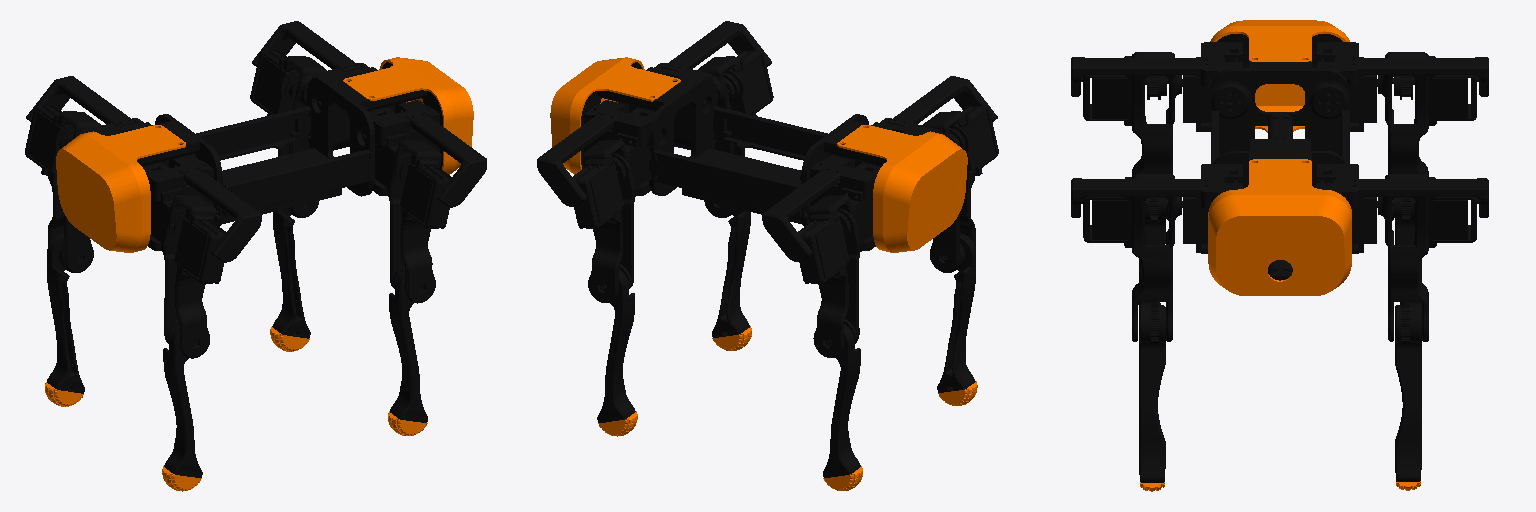
--- Facts derived from the render (not from the file) ---
Views: 3 orthographic renders of the robot side by side, from view 1: azimuth 30°, elevation 25°; view 2: azimuth 150°, elevation 25°; view 3: azimuth 270°, elevation 25°.
Model spot with 25 links and 24 joints (12 revolute, 12 fixed), rooted at base_link, posed every joint at zero.
Visible links, largest first — view 1: back, front_right_upper_leg, back_right_upper_leg, front_right_hip, back_right_hip, front, front_bracket, back_left_upper_leg, chassis_right, front_left_upper_leg, chassis_left, front_left_hip (+7 smaller); view 2: back, front_left_upper_leg, back_left_upper_leg, front_left_hip, back_left_hip, front, front_bracket, back_right_upper_leg, chassis_left, front_right_upper_leg, chassis_right, front_right_hip (+7 smaller); view 3: front, back_bracket, front_right_upper_leg, front_left_upper_leg, back_right_upper_leg, back_left_upper_leg, back_right_hip, back_left_hip, front_right_hip, front_left_hip, back, front_left_lower_leg (+5 smaller).
Link boxes in pixels (x1=…): back: x1=56, y1=125, x2=185, y2=252; front_right_upper_leg: x1=389, y1=140, x2=451, y2=303; back_right_upper_leg: x1=163, y1=195, x2=225, y2=358; front_right_hip: x1=362, y1=100, x2=486, y2=207; back_right_hip: x1=143, y1=155, x2=261, y2=262; front: x1=343, y1=57, x2=473, y2=174; front_bracket: x1=308, y1=62, x2=442, y2=196; back_left_upper_leg: x1=25, y1=106, x2=101, y2=272; chassis_right: x1=222, y1=150, x2=374, y2=216; front_left_upper_leg: x1=250, y1=51, x2=326, y2=217; chassis_left: x1=179, y1=106, x2=310, y2=160; front_left_hip: x1=252, y1=21, x2=394, y2=150; back: x1=837, y1=125, x2=967, y2=252; front_left_upper_leg: x1=573, y1=140, x2=634, y2=302; back_left_upper_leg: x1=798, y1=195, x2=859, y2=357; front_left_hip: x1=537, y1=100, x2=661, y2=206; back_left_hip: x1=762, y1=155, x2=880, y2=261; front: x1=550, y1=57, x2=680, y2=174; front_bracket: x1=581, y1=62, x2=715, y2=195; back_right_upper_leg: x1=922, y1=106, x2=998, y2=272; chassis_left: x1=651, y1=150, x2=801, y2=216; front_right_upper_leg: x1=697, y1=51, x2=773, y2=217; chassis_right: x1=713, y1=106, x2=844, y2=160; front_right_hip: x1=629, y1=21, x2=771, y2=149; front: x1=1208, y1=159, x2=1351, y2=295; back_bracket: x1=1211, y1=34, x2=1349, y2=155; front_right_upper_leg: x1=1081, y1=174, x2=1181, y2=341; front_left_upper_leg: x1=1378, y1=174, x2=1478, y2=341; back_right_upper_leg: x1=1081, y1=52, x2=1181, y2=220; back_left_upper_leg: x1=1378, y1=52, x2=1478, y2=220; back_right_hip: x1=1071, y1=42, x2=1242, y2=131; back_left_hip: x1=1317, y1=42, x2=1488, y2=131; front_right_hip: x1=1071, y1=164, x2=1242, y2=253; front_left_hip: x1=1317, y1=164, x2=1488, y2=253; back: x1=1210, y1=20, x2=1349, y2=132; front_left_lower_leg: x1=1395, y1=303, x2=1421, y2=481.
Bounding box of the posed robot: 0.3666 × 0.3316 × 0.2907 m (x, y, z).
Meshes: 16 distinct files referenced, 23 mesh visuals loaded (15 OBJ); not drawn: 1 (reference not matched to a file when rendering).

The robot description file, URDF, robot "spot":
<?xml version="1.0" encoding="utf-8"?>
<!-- =================================================================================== -->
<!-- |    This document was autogenerated by xacro from spot.urdf.xacro                | -->
<!-- |    EDITING THIS FILE BY HAND IS NOT RECOMMENDED                                 | -->
<!-- =================================================================================== -->
<robot name="spot">
  <material name="orange">
    <color rgba="1.0 0.5 0.0 1"/>
  </material>
  <material name="black">
    <color rgba="0.1 0.1 0.1 1"/>
  </material>
  <material name="grey">
    <color rgba="0.6 0.6 0.6 1"/>
  </material>
  <!-- Left Leg: prefix is front or rear -->
  <!--   <xacro:macro name="LeftLeg" params="prefix reflect">
    <link name="${prefix}_Left_Leg">
        <visual>
            <geometry>
                <box size="${leglen} 0.1 0.2"/>
            </geometry>
            <origin xyz="0 0 -${leglen/2}" rpy="0 ${pi/2} 0"/>
            <material name="white"/>
        </visual>
        <collision>
            <geometry>
                <box size="${leglen} 0.1 0.2"/>
            </geometry>
            <origin xyz="0 0 -${leglen/2}" rpy="0 ${pi/2} 0"/>
        </collision>
        <xacro:default_inertial mass="10"/>
    </link>

    <joint name="base_to_${prefix}_leg" type="fixed">
        <parent link="base_link"/>
        <child link="${prefix}_leg"/>
        <origin xyz="0 ${reflect*(width+.02)} 0.25" />
    </joint>
</xacro:macro> -->
  <!-- <xacro:include filename="$(find mini_ros)/urdf/accessories.urdf.xacro" /> -->
  <!-- Robot description -->
  <!-- STATIC Links -->
  <link name="base_link">
    <inertial>
      <mass value="1"/>
      <!-- Inertial Axes -->
      <inertia ixx="0" ixy="0" ixz="0" iyx="0" iyy="0.0011498" iyz="0" izx="0" izy="0" izz="0"/>
    </inertial>
  </link>
  <link name="base_inertia">
    <visual>
      <origin rpy="0 0 1.57079632679" xyz="-0.16 0.035 -0.045"/>
      <geometry>
        <mesh filename="obj/OpenQuadruped/MAINBODY.obj" scale="0.1 0.1 0.1"/>
      </geometry>
      <material name="orange"/>
    </visual>
    <collision>
      <origin rpy="0 0 1.57079632679" xyz="0 0 0"/>
      <geometry>
        <box size="0.114 0.2 0.1"/>
      </geometry>
    </collision>
    <inertial>
      <mass value="0.6"/>
      <origin rpy="0 0 0" xyz="0 0 0"/>
      <!-- Inertial Axes -->
      <inertia ixx="0.0025" ixy="0" ixz="0" iyx="0" iyy="0.0011498" iyz="0" izx="0" izy="0" izz="0.0026498"/>
    </inertial>
  </link>
  <gazebo reference="base_inertia">
    <material>Gazebo/Orange</material>
  </gazebo>
  <!-- m to mm -->
  <link name="battery">
    <visual>
      <origin rpy="0 0 1.57079632679" xyz="-0.15 0.035 -0.022"/>
      <geometry>
        <mesh filename="obj/OpenQuadruped/Battery.obj" scale="0.1 0.1 0.1"/>
      </geometry>
      <material name="black"/>
    </visual>
    <collision>
      <origin rpy="0 0 1.57079632679" xyz="0 0 0"/>
      <geometry>
        <box size="0.048 0.145 0.026"/>
      </geometry>
    </collision>
    <inertial>
      <mass value="0.4"/>
      <origin rpy="0 0 0" xyz="0 0 0"/>
      <!-- Inertial Axes -->
      <inertia ixx="0.000723366666667" ixy="0" ixz="0" iyx="0" iyy="9.93333333333e-05" iyz="0" izx="0" izy="0" izz="0.000777633333333"/>
    </inertial>
  </link>
  <gazebo reference="battery">
    <material>Gazebo/Black</material>
  </gazebo>
  <!-- m to mm -->
  <link name="chassis_left">
    <visual>
      <origin rpy="0 1.57079632679 -1.57079632679" xyz="0.016 0.003 0"/>
      <geometry>
        <mesh filename="obj/OpenQuadruped/Chassis_Left_Side.obj" scale="0.1 0.1 0.1"/>
      </geometry>
      <material name="black"/>
    </visual>
    <collision>
      <origin rpy="0 1.57079632679 -1.57079632679" xyz="0 0 0"/>
      <geometry>
        <box size="0.06 0.15 0.006"/>
      </geometry>
    </collision>
    <inertial>
      <mass value="0.01"/>
      <origin rpy="0 0 0" xyz="0 0 0"/>
      <!-- Inertial Axes -->
      <inertia ixx="1.878e-05" ixy="0" ixz="0" iyx="0" iyy="3.03e-06" iyz="0" izx="0" izy="0" izz="2.175e-05"/>
    </inertial>
  </link>
  <gazebo reference="chassis_left">
    <material>Gazebo/Black</material>
  </gazebo>
  <!-- m to mm -->
  <link name="chassis_right">
    <visual>
      <origin rpy="0 1.57079632679 1.57079632679" xyz="-0.016 -0.003 0"/>
      <geometry>
        <mesh filename="obj/OpenQuadruped/Chassis_Right_Side.obj" scale="0.1 0.1 0.1"/>
      </geometry>
      <material name="black"/>
    </visual>
    <collision>
      <origin rpy="0 1.57079632679 1.57079632679" xyz="0 0 0"/>
      <geometry>
        <box size="0.06 0.15 0.006"/>
      </geometry>
    </collision>
    <inertial>
      <mass value="0.01"/>
      <origin rpy="0 0 0" xyz="0 0 0"/>
      <!-- Inertial Axes -->
      <inertia ixx="1.878e-05" ixy="0" ixz="0" iyx="0" iyy="3.03e-06" iyz="0" izx="0" izy="0" izz="2.175e-05"/>
    </inertial>
  </link>
  <gazebo reference="chassis_right">
    <material>Gazebo/Black</material>
  </gazebo>
  <!-- m to mm -->
  <link name="front">
    <visual>
      <origin rpy="0 0 1.57079632679" xyz="-0.16 0.035 -0.045"/>
      <geometry>
        <mesh filename="obj/OpenQuadruped/Front.obj" scale="0.1 0.1 0.1"/>
      </geometry>
      <material name="orange"/>
    </visual>
    <collision>
      <origin rpy="0 0 1.57079632679" xyz="0.16 0 0.006"/>
      <geometry>
        <box size="0.114 0.045 0.085"/>
      </geometry>
    </collision>
    <inertial>
      <mass value="0.1"/>
      <origin rpy="0 0 0" xyz="0 0 0"/>
      <!-- Inertial Axes -->
      <inertia ixx="7.70833333333e-05" ixy="0" ixz="0" iyx="0" iyy="0.000168508333333" iyz="0" izx="0" izy="0" izz="0.000125175"/>
    </inertial>
  </link>
  <gazebo reference="front">
    <material>Gazebo/Orange</material>
  </gazebo>
  <!-- m to mm -->
  <link name="back">
    <visual>
      <origin rpy="0 0 1.57079632679" xyz="-0.16 0.035 -0.045"/>
      <geometry>
        <mesh filename="obj/OpenQuadruped/Back.obj" scale="0.1 0.1 0.1"/>
      </geometry>
      <material name="orange"/>
    </visual>
    <collision>
      <origin rpy="0 0 1.57079632679" xyz="-0.16 0 0.006"/>
      <geometry>
        <box size="0.114 0.075 0.085"/>
      </geometry>
    </collision>
    <inertial>
      <mass value="0.1"/>
      <origin rpy="0 0 0" xyz="0 0 0"/>
      <!-- Inertial Axes -->
      <inertia ixx="0.000107083333333" ixy="0" ixz="0" iyx="0" iyy="0.000168508333333" iyz="0" izx="0" izy="0" izz="0.000155175"/>
    </inertial>
  </link>
  <gazebo reference="back">
    <material>Gazebo/Orange</material>
  </gazebo>
  <!-- m to mm -->
  <link name="front_bracket">
    <visual>
      <origin rpy="0 0 1.57079632679" xyz="-0.16 0.035 -0.045"/>
      <geometry>
        <mesh filename="obj/OpenQuadruped/Front_Bracket.obj" scale="0.1 0.1 0.1"/>
      </geometry>
      <material name="black"/>
    </visual>
    <collision>
      <origin rpy="0 0 1.57079632679" xyz="0.1 0 0"/>
      <geometry>
        <box size="0.025 0.075 0.085"/>
      </geometry>
    </collision>
    <inertial>
      <mass value="0.1"/>
      <origin rpy="0 0 0" xyz="0 0 0"/>
      <!-- Inertial Axes -->
      <inertia ixx="0.000107083333333" ixy="0" ixz="0" iyx="0" iyy="6.54166666667e-05" iyz="0" izx="0" izy="0" izz="5.20833333333e-05"/>
    </inertial>
  </link>
  <gazebo reference="front_bracket">
    <material>Gazebo/Black</material>
  </gazebo>
  <!-- m to mm -->
  <link name="back_bracket">
    <visual>
      <origin rpy="0 0 1.57079632679" xyz="-0.16 0.035 -0.045"/>
      <geometry>
        <mesh filename="obj/OpenQuadruped/Back_Bracket.obj" scale="0.1 0.1 0.1"/>
      </geometry>
      <material name="black"/>
    </visual>
    <collision>
      <origin rpy="0 0 1.57079632679" xyz="-0.1 0 0"/>
      <geometry>
        <box size="0.025 0.075 0.085"/>
      </geometry>
    </collision>
    <inertial>
      <mass value="0.1"/>
      <origin rpy="0 0 0" xyz="0 0 0"/>
      <!-- Inertial Axes -->
      <inertia ixx="0.000107083333333" ixy="0" ixz="0" iyx="0" iyy="6.54166666667e-05" iyz="0" izx="0" izy="0" izz="5.20833333333e-05"/>
    </inertial>
  </link>
  <gazebo reference="back_bracket">
    <material>Gazebo/Black</material>
  </gazebo>
  <!-- m to mm -->
  <link name="front_left_hip">
    <visual>
      <origin rpy="0 0 1.57079632679" xyz="-0.25 -0.0044 -0.067"/>
      <geometry>
        <mesh filename="obj/OpenQuadruped/LEFT_HIP.obj" scale="0.1 0.1 0.1"/>
      </geometry>
      <material name="black"/>
    </visual>
    <collision>
      <origin rpy="0 0 1.57079632679" xyz="0.015 0.01 -0.01"/>
      <geometry>
        <box size="0.05 0.065 0.065"/>
      </geometry>
    </collision>
    <inertial>
      <mass value="0.2"/>
      <origin rpy="0 0 0" xyz="0 0.075 0"/>
      <!-- Inertial Axes -->
      <inertia ixx="0.000140833333333" ixy="0" ixz="0" iyx="0" iyy="0.000112083333333" iyz="0" izx="0" izy="0" izz="0.000112083333333"/>
    </inertial>
  </link>
  <gazebo reference="front_left_hip">
    <material>Gazebo/Black</material>
  </gazebo>
  <joint name="motor_front_left_hip" type="revolute">
    <axis xyz="1 0 0"/>
    <origin rpy="0 0 0" xyz="0.0915 0.0394 0.022"/>
    <parent link="front_bracket"/>
    <child link="front_left_hip"/>
    <limit effort="4.0" lower="-1.04" upper="1.04" velocity="4.0"/>
    <joint_properties damping="0.0" friction="0.0"/>
  </joint>
  <link name="front_left_upper_leg">
    <visual>
      <origin rpy="0 0 1.57079632679" xyz="-0.252 -0.05 -0.055"/>
      <geometry>
        <mesh filename="obj/OpenQuadruped/LEFT_UPPER_LEG.obj" scale="0.1 0.1 0.1"/>
      </geometry>
      <material name="black"/>
    </visual>
    <collision>
      <origin rpy="0 0 1.57079632679" xyz="0 0.02 -0.05"/>
      <geometry>
        <box size="0.035 0.035 0.11"/>
      </geometry>
    </collision>
    <inertial>
      <mass value="0.13"/>
      <origin rpy="0 0 0" xyz="-0.005 0.0175 -0.055"/>
      <!-- Inertial Axes -->
      <inertia ixx="0.000144354166667" ixy="0" ixz="0" iyx="0" iyy="0.000144354166667" iyz="0" izx="0" izy="0" izz="2.65416666667e-05"/>
    </inertial>
  </link>
  <gazebo reference="front_left_upper_leg">
    <material>Gazebo/Black</material>
  </gazebo>
  <joint name="motor_front_left_upper_leg" type="revolute">
    <axis xyz="0 1 0"/>
    <origin rpy="0 0 0" xyz="0.0015 0.045 -0.0087"/>
    <parent link="front_left_hip"/>
    <child link="front_left_upper_leg"/>
    <limit effort="4.0" lower="-1.57079632679" upper="2.59" velocity="4.0"/>
    <joint_properties damping="0.0" friction="0.0"/>
  </joint>
  <link name="front_left_lower_leg">
    <visual>
      <origin rpy="0 0 1.57079632679" xyz="-0.247 -0.068 0.0535"/>
      <geometry>
        <mesh filename="obj/OpenQuadruped/LEFT_LOWER_LEG.obj" scale="0.1 0.1 0.1"/>
      </geometry>
      <material name="black"/>
    </visual>
    <collision>
      <origin rpy="0 0 1.57079632679" xyz="0 0 -0.06"/>
      <geometry>
        <box size="0.035 0.035 0.12"/>
      </geometry>
    </collision>
    <inertial>
      <mass value="0.05"/>
      <origin rpy="0 0 0" xyz="-0.01 0 -0.06"/>
      <!-- Inertial Axes -->
      <inertia ixx="6.51041666667e-05" ixy="0" ixz="0" iyx="0" iyy="6.51041666667e-05" iyz="0" izx="0" izy="0" izz="1.02083333333e-05"/>
    </inertial>
  </link>
  <gazebo reference="front_left_lower_leg">
    <material>Gazebo/Black</material>
  </gazebo>
  <joint name="motor_front_left_lower_leg" type="revolute">
    <axis xyz="0 1 0"/>
    <origin rpy="0 0 0" xyz="-0.005 0.018 -0.109"/>
    <parent link="front_left_upper_leg"/>
    <child link="front_left_lower_leg"/>
    <limit effort="4.0" lower="-2.9" upper="1.57079632679" velocity="4.0"/>
    <joint_properties damping="0.0" friction="0.0"/>
  </joint>
  <link name="front_left_foot">
    <visual>
      <origin rpy="0 0 1.57079632679" xyz="-0.247 -0.068 0.18"/>
      <geometry>
        <mesh filename="obj/OpenQuadruped/LEFT_FOOT.obj" scale="0.1 0.1 0.1"/>
      </geometry>
      <material name="orange"/>
    </visual>
    <collision>
      <!-- origin rpy="0 0 1.57079632679" xyz="-0.247 -0.068 0.18"/-->
      <origin rpy = "1.57079632679 0 0" xyz = "-0.005 0 0"/>
      <geometry>
        <!-- mesh filename="obj/OpenQuadruped/LEFT_FOOT.obj" scale="0.1 0.1 0.1"/ -->
        <!-- sphere radius="0.025"/-->
        <cylinder radius="0.02" length="0.02"/>
      </geometry>
      <contact_coefficients mu="10.1"/>
    </collision>
    <inertial>
      <mass value="0.005"/>
      <origin rpy="0 0 0" xyz="0 0 0"/>
      <!-- Inertial Axes -->
      <inertia ixx="3.52083333333e-06" ixy="0" ixz="0" iyx="0" iyy="2.80208333333e-06" iyz="0" izx="0" izy="0" izz="2.80208333333e-06"/>
    </inertial>
  </link>
  <gazebo reference="front_left_foot">
    <kp>1000000.0</kp>
    <kd>1.0</kd>
    <mu1>0.8</mu1>
    <mu2>0.8</mu2>
    <maxVel>0.0</maxVel>
    <minDepth>0.001</minDepth>
    <material>Gazebo/Orange</material>
  </gazebo>
  <joint name="front_left_leg_foot" type="fixed">
    <origin rpy="0 0 0" xyz="0 0 -0.1265"/>
    <parent link="front_left_lower_leg"/>
    <child link="front_left_foot"/>
  </joint>
  <link name="back_left_hip">
    <visual>
      <origin rpy="0 0 1.57079632679" xyz="-0.25 -0.0044 -0.067"/>
      <geometry>
        <mesh filename="obj/OpenQuadruped/LEFT_HIP.obj" scale="0.1 0.1 0.1"/>
      </geometry>
      <material name="black"/>
    </visual>
    <collision>
      <origin rpy="0 0 1.57079632679" xyz="0.015 0.01 -0.01"/>
      <geometry>
        <box size="0.05 0.065 0.065"/>
      </geometry>
    </collision>
    <inertial>
      <mass value="0.2"/>
      <origin rpy="0 0 0" xyz="0 0.075 0"/>
      <!-- Inertial Axes -->
      <inertia ixx="0.000140833333333" ixy="0" ixz="0" iyx="0" iyy="0.000112083333333" iyz="0" izx="0" izy="0" izz="0.000112083333333"/>
    </inertial>
  </link>
  <gazebo reference="back_left_hip">
    <material>Gazebo/Black</material>
  </gazebo>
  <joint name="motor_back_left_hip" type="revolute">
    <axis xyz="1 0 0"/>
    <origin rpy="0 0 0" xyz="-0.1365 0.0394 0.022"/>
    <parent link="back_bracket"/>
    <child link="back_left_hip"/>
    <limit effort="4.0" lower="-1.04" upper="1.04" velocity="4.0"/>
    <joint_properties damping="0.0" friction="0.0"/>
  </joint>
  <link name="back_left_upper_leg">
    <visual>
      <origin rpy="0 0 1.57079632679" xyz="-0.252 -0.05 -0.055"/>
      <geometry>
        <mesh filename="obj/OpenQuadruped/LEFT_UPPER_LEG.obj" scale="0.1 0.1 0.1"/>
      </geometry>
      <material name="black"/>
    </visual>
    <collision>
      <origin rpy="0 0 1.57079632679" xyz="0 0.02 -0.05"/>
      <geometry>
        <box size="0.035 0.035 0.11"/>
      </geometry>
    </collision>
    <inertial>
      <mass value="0.13"/>
      <origin rpy="0 0 0" xyz="-0.005 0.0175 -0.055"/>
      <!-- Inertial Axes -->
      <inertia ixx="0.000144354166667" ixy="0" ixz="0" iyx="0" iyy="0.000144354166667" iyz="0" izx="0" izy="0" izz="2.65416666667e-05"/>
    </inertial>
  </link>
  <gazebo reference="back_left_upper_leg">
    <material>Gazebo/Black</material>
  </gazebo>
  <joint name="motor_back_left_upper_leg" type="revolute">
    <axis xyz="0 1 0"/>
    <origin rpy="0 0 0" xyz="0.0015 0.045 -0.0087"/>
    <parent link="back_left_hip"/>
    <child link="back_left_upper_leg"/>
    <limit effort="4.0" lower="-1.57079632679" upper="2.59" velocity="4.0"/>
    <joint_properties damping="0.0" friction="0.0"/>
  </joint>
  <link name="back_left_lower_leg">
    <visual>
      <origin rpy="0 0 1.57079632679" xyz="-0.247 -0.068 0.0535"/>
      <geometry>
        <mesh filename="obj/OpenQuadruped/LEFT_LOWER_LEG.obj" scale="0.1 0.1 0.1"/>
      </geometry>
      <material name="black"/>
    </visual>
    <collision>
      <origin rpy="0 0 1.57079632679" xyz="0 0 -0.06"/>
      <geometry>
        <box size="0.035 0.035 0.12"/>
      </geometry>
    </collision>
    <inertial>
      <mass value="0.05"/>
      <origin rpy="0 0 0" xyz="-0.01 0 -0.06"/>
      <!-- Inertial Axes -->
      <inertia ixx="6.51041666667e-05" ixy="0" ixz="0" iyx="0" iyy="6.51041666667e-05" iyz="0" izx="0" izy="0" izz="1.02083333333e-05"/>
    </inertial>
  </link>
  <gazebo reference="back_left_lower_leg">
    <material>Gazebo/Black</material>
  </gazebo>
  <joint name="motor_back_left_lower_leg" type="revolute">
    <axis xyz="0 1 0"/>
    <origin rpy="0 0 0" xyz="-0.005 0.018 -0.109"/>
    <parent link="back_left_upper_leg"/>
    <child link="back_left_lower_leg"/>
    <limit effort="4.0" lower="-2.9" upper="1.57079632679" velocity="4.0"/>
    <joint_properties damping="0.0" friction="0.0"/>
  </joint>
  <link name="back_left_foot">
    <visual>
      <origin rpy="0 0 1.57079632679" xyz="-0.247 -0.068 0.18"/>
      <geometry>
        <mesh filename="obj/OpenQuadruped/LEFT_FOOT.obj" scale="0.1 0.1 0.1"/>
      </geometry>
      <material name="orange"/>
    </visual>
    <collision>
      <!--origin rpy="0 0 1.57079632679" xyz="-0.247 -0.068 0.18"/-->
      <origin rpy = "1.57079632679 0 0" xyz = "-0.005 0 0"/>
      <geometry>
        <!--mesh filename="obj/OpenQuadruped/LEFT_FOOT.obj" scale="0.1 0.1 0.1"/-->
        <!-- sphere radius="0.025"/-->
        <cylinder radius="0.02" length="0.02"/>
      </geometry>
      <contact_coefficients mu="10.1"/>
    </collision>
    <inertial>
      <mass value="0.005"/>
      <origin rpy="0 0 0" xyz="0 0 0"/>
      <!-- Inertial Axes -->
      <inertia ixx="3.52083333333e-06" ixy="0" ixz="0" iyx="0" iyy="2.80208333333e-06" iyz="0" izx="0" izy="0" izz="2.80208333333e-06"/>
    </inertial>
  </link>
  <gazebo reference="back_left_foot">
    <kp>1000000.0</kp>
    <kd>1.0</kd>
    <mu1>0.8</mu1>
    <mu2>0.8</mu2>
    <maxVel>0.0</maxVel>
    <minDepth>0.001</minDepth>
    <material>Gazebo/Orange</material>
  </gazebo>
  <joint name="back_left_leg_foot" type="fixed">
    <origin rpy="0 0 0" xyz="0 0 -0.1265"/>
    <parent link="back_left_lower_leg"/>
    <child link="back_left_foot"/>
  </joint>
  <link name="front_right_hip">
    <visual>
      <origin rpy="0 0 1.57079632679" xyz="-0.25 0.074 -0.067"/>
      <geometry>
        <mesh filename="obj/OpenQuadruped/RIGHT_HIP.obj" scale="0.1 0.1 0.1"/>
      </geometry>
      <material name="black"/>
    </visual>
    <collision>
      <origin rpy="0 0 1.57079632679" xyz="0.015 -0.01 -0.01"/>
      <geometry>
        <box size="0.05 0.065 0.065"/>
      </geometry>
    </collision>
    <inertial>
      <mass value="0.2"/>
      <origin rpy="0 0 0" xyz="0 -0.075 0"/>
      <!-- Inertial Axes -->
      <inertia ixx="0.000140833333333" ixy="0" ixz="0" iyx="0" iyy="0.000112083333333" iyz="0" izx="0" izy="0" izz="0.000112083333333"/>
    </inertial>
  </link>
  <gazebo reference="front_right_hip">
    <material>Gazebo/Black</material>
  </gazebo>
  <joint name="motor_front_right_hip" type="revolute">
    <axis xyz="1 0 0"/>
    <origin rpy="0 0 0" xyz="0.0915 -0.0394 0.022"/>
    <parent link="front_bracket"/>
    <child link="front_right_hip"/>
    <limit effort="4.0" lower="-1.04" upper="1.04" velocity="4.0"/>
    <joint_properties damping="0.0" friction="0.0"/>
  </joint>
  <link name="front_right_upper_leg">
    <visual>
      <origin rpy="0 0 1.57079632679" xyz="-0.252 0.12 -0.055"/>
      <geometry>
        <mesh filename="obj/OpenQuadruped/RIGHT_UPPER_LEG.obj" scale="0.1 0.1 0.1"/>
      </geometry>
      <material name="black"/>
    </visual>
    <collision>
      <origin rpy="0 0 1.57079632679" xyz="0 -0.02 -0.05"/>
      <geometry>
        <box size="0.035 0.035 0.11"/>
      </geometry>
    </collision>
    <inertial>
      <mass value="0.13"/>
      <origin rpy="0 0 0" xyz="-0.005 -0.0175 -0.055"/>
      <!-- Inertial Axes -->
      <inertia ixx="0.000144354166667" ixy="0" ixz="0" iyx="0" iyy="0.000144354166667" iyz="0" izx="0" izy="0" izz="2.65416666667e-05"/>
    </inertial>
  </link>
  <gazebo reference="front_right_upper_leg">
    <material>Gazebo/Black</material>
  </gazebo>
  <joint name="motor_front_right_upper_leg" type="revolute">
    <axis xyz="0 1 0"/>
    <origin rpy="0 0 0" xyz="0.0015 -0.045 -0.0087"/>
    <parent link="front_right_hip"/>
    <child link="front_right_upper_leg"/>
    <limit effort="4.0" lower="-1.57079632679" upper="2.59" velocity="4.0"/>
    <joint_properties damping="0.0" friction="0.0"/>
  </joint>
  <link name="front_right_lower_leg">
    <visual>
      <origin rpy="0 0 1.57079632679" xyz="-0.247 0.138 0.0535"/>
      <geometry>
        <mesh filename="obj/OpenQuadruped/RIGHT_LOWER_LEG.obj" scale="0.1 0.1 0.1"/>
      </geometry>
      <material name="black"/>
    </visual>
    <collision>
      <origin rpy="0 0 1.57079632679" xyz="0 0 -0.06"/>
      <geometry>
        <box size="0.035 0.035 0.12"/>
      </geometry>
    </collision>
    <inertial>
      <mass value="0.05"/>
      <origin rpy="0 0 0" xyz="-0.01 0 -0.06"/>
      <!-- Inertial Axes -->
      <inertia ixx="6.51041666667e-05" ixy="0" ixz="0" iyx="0" iyy="6.51041666667e-05" iyz="0" izx="0" izy="0" izz="1.02083333333e-05"/>
    </inertial>
  </link>
  <gazebo reference="front_right_lower_leg">
    <material>Gazebo/Black</material>
  </gazebo>
  <joint name="motor_front_right_lower_leg" type="revolute">
    <axis xyz="0 1 0"/>
    <origin rpy="0 0 0" xyz="-0.005 -0.018 -0.109"/>
    <parent link="front_right_upper_leg"/>
    <child link="front_right_lower_leg"/>
    <limit effort="4.0" lower="-2.9" upper="1.57079632679" velocity="4.0"/>
    <joint_properties damping="0.0" friction="0.0"/>
  </joint>
  <link name="front_right_foot">
    <visual>
      <origin rpy="0 0 1.57079632679" xyz="-0.247 0.138 0.18"/>
      <geometry>
        <mesh filename="obj/OpenQuadruped/RIGHT_FOOT.obj" scale="0.1 0.1 0.1"/>
      </geometry>
      <material name="orange"/>
    </visual>
    <collision>
      <!--origin rpy="0 0 1.57079632679" xyz="-0.247 0.138 0.18"/-->
      <origin rpy = "1.57079632679 0 0" xyz = "-0.005 0 0"/>
      <geometry>
        <!--mesh filename="obj/OpenQuadruped/RIGHT_FOOT.obj" scale="0.1 0.1 0.1"/-->
        <!-- sphere radius="0.025"/-->
        <cylinder radius="0.02" length="0.02"/>
      </geometry>
      <contact_coefficients mu="10.1"/>
    </collision>
    <inertial>
      <mass value="0.005"/>
      <origin rpy="0 0 0" xyz="0 0 0"/>
      <!-- Inertial Axes -->
      <inertia ixx="3.52083333333e-06" ixy="0" ixz="0" iyx="0" iyy="2.80208333333e-06" iyz="0" izx="0" izy="0" izz="2.80208333333e-06"/>
    </inertial>
  </link>
  <gazebo reference="front_right_foot">
    <kp>1000000.0</kp>
    <kd>1.0</kd>
    <mu1>0.8</mu1>
    <mu2>0.8</mu2>
    <maxVel>0.0</maxVel>
    <minDepth>0.001</minDepth>
    <material>Gazebo/Orange</material>
  </gazebo>
  <joint name="front_right_leg_foot" type="fixed">
    <origin rpy="0 0 0" xyz="0 0 -0.1265"/>
    <parent link="front_right_lower_leg"/>
    <child link="front_right_foot"/>
  </joint>
  <link name="back_right_hip">
    <visual>
      <origin rpy="0 0 1.57079632679" xyz="-0.25 0.074 -0.067"/>
      <geometry>
        <mesh filename="obj/OpenQuadruped/RIGHT_HIP.obj" scale="0.1 0.1 0.1"/>
      </geometry>
      <material name="black"/>
    </visual>
    <collision>
      <origin rpy="0 0 1.57079632679" xyz="0.015 -0.01 -0.01"/>
      <geometry>
        <box size="0.05 0.065 0.065"/>
      </geometry>
    </collision>
    <inertial>
      <mass value="0.2"/>
      <origin rpy="0 0 0" xyz="0 -0.075 0"/>
      <!-- Inertial Axes -->
      <inertia ixx="0.000140833333333" ixy="0" ixz="0" iyx="0" iyy="0.000112083333333" iyz="0" izx="0" izy="0" izz="0.000112083333333"/>
    </inertial>
  </link>
  <gazebo reference="back_right_hip">
    <material>Gazebo/Black</material>
  </gazebo>
  <joint name="motor_back_right_hip" type="revolute">
    <axis xyz="1 0 0"/>
    <origin rpy="0 0 0" xyz="-0.1365 -0.0394 0.022"/>
    <parent link="back_bracket"/>
    <child link="back_right_hip"/>
    <limit effort="4.0" lower="-1.04" upper="1.04" velocity="4.0"/>
    <joint_properties damping="0.0" friction="0.0"/>
  </joint>
  <link name="back_right_upper_leg">
    <visual>
      <origin rpy="0 0 1.57079632679" xyz="-0.252 0.12 -0.055"/>
      <geometry>
        <mesh filename="obj/OpenQuadruped/RIGHT_UPPER_LEG.obj" scale="0.1 0.1 0.1"/>
      </geometry>
      <material name="black"/>
    </visual>
    <collision>
      <origin rpy="0 0 1.57079632679" xyz="0 -0.02 -0.05"/>
      <geometry>
        <box size="0.035 0.035 0.11"/>
      </geometry>
    </collision>
    <inertial>
      <mass value="0.13"/>
      <origin rpy="0 0 0" xyz="-0.005 -0.0175 -0.055"/>
      <!-- Inertial Axes -->
      <inertia ixx="0.000144354166667" ixy="0" ixz="0" iyx="0" iyy="0.000144354166667" iyz="0" izx="0" izy="0" izz="2.65416666667e-05"/>
    </inertial>
  </link>
  <gazebo reference="back_right_upper_leg">
    <material>Gazebo/Black</material>
  </gazebo>
  <joint name="motor_back_right_upper_leg" type="revolute">
    <axis xyz="0 1 0"/>
    <origin rpy="0 0 0" xyz="0.0015 -0.045 -0.0087"/>
    <parent link="back_right_hip"/>
    <child link="back_right_upper_leg"/>
    <limit effort="4.0" lower="-1.57079632679" upper="2.59" velocity="4.0"/>
    <joint_properties damping="0.0" friction="0.0"/>
  </joint>
  <link name="back_right_lower_leg">
    <visual>
      <origin rpy="0 0 1.57079632679" xyz="-0.247 0.138 0.0535"/>
      <geometry>
        <mesh filename="obj/OpenQuadruped/RIGHT_LOWER_LEG.obj" scale="0.1 0.1 0.1"/>
      </geometry>
      <material name="black"/>
    </visual>
    <collision>
      <origin rpy="0 0 1.57079632679" xyz="0 0 -0.06"/>
      <geometry>
        <box size="0.035 0.035 0.12"/>
      </geometry>
    </collision>
    <inertial>
      <mass value="0.05"/>
      <origin rpy="0 0 0" xyz="-0.01 0 -0.06"/>
      <!-- Inertial Axes -->
      <inertia ixx="6.51041666667e-05" ixy="0" ixz="0" iyx="0" iyy="6.51041666667e-05" iyz="0" izx="0" izy="0" izz="1.02083333333e-05"/>
    </inertial>
  </link>
  <gazebo reference="back_right_lower_leg">
    <material>Gazebo/Black</material>
  </gazebo>
  <joint name="motor_back_right_lower_leg" type="revolute">
    <axis xyz="0 1 0"/>
    <origin rpy="0 0 0" xyz="-0.005 -0.018 -0.109"/>
    <parent link="back_right_upper_leg"/>
    <child link="back_right_lower_leg"/>
    <limit effort="4.0" lower="-2.9" upper="1.57079632679" velocity="4.0"/>
    <joint_properties damping="0.0" friction="0.0"/>
  </joint>
  <link name="back_right_foot">
    <visual>
      <origin rpy="0 0 1.57079632679" xyz="-0.247 0.138 0.18"/>
      <geometry>
        <mesh filename="obj/OpenQuadruped/RIGHT_FOOT.obj" scale="0.1 0.1 0.1"/>
      </geometry>
      <material name="orange"/>
    </visual>
    <collision>
      <!--origin rpy="0 0 1.57079632679" xyz="-0.247 0.138 0.18"/-->
      <origin rpy = "1.57079632679 0 0" xyz = "-0.005 0 0"/>
      <geometry>
        <!--mesh filename="obj/OpenQuadruped/RIGHT_FOOT.obj" scale="0.1 0.1 0.1"/-->
        <!-- sphere radius="0.025"/-->
        <cylinder radius="0.02" length="0.02"/>
      </geometry>
      <contact_coefficients mu="10.1"/>
    </collision>
    <inertial>
      <mass value="0.005"/>
      <origin rpy="0 0 0" xyz="0 0 0"/>
      <!-- Inertial Axes -->
      <inertia ixx="3.52083333333e-06" ixy="0" ixz="0" iyx="0" iyy="2.80208333333e-06" iyz="0" izx="0" izy="0" izz="2.80208333333e-06"/>
    </inertial>
  </link>
  <gazebo reference="back_right_foot">
    <kp>1000000.0</kp>
    <kd>1.0</kd>
    <mu1>0.8</mu1>
    <mu2>0.8</mu2>
    <maxVel>0.0</maxVel>
    <minDepth>0.001</minDepth>
    <material>Gazebo/Orange</material>
  </gazebo>
  <joint name="back_right_leg_foot" type="fixed">
    <origin rpy="0 0 0" xyz="0 0 -0.1265"/>
    <parent link="back_right_lower_leg"/>
    <child link="back_right_foot"/>
  </joint>
  <joint name="base_base" type="fixed">
    <origin rpy="0 0 0" xyz="0 0 0"/>
    <parent link="base_link"/>
    <child link="base_inertia"/>
  </joint>
  <joint name="base_battery" type="fixed">
    <origin rpy="0 0 0" xyz="-0.01 0 -0.0225"/>
    <parent link="base_link"/>
    <child link="battery"/>
  </joint>
  <joint name="base_left" type="fixed">
    <origin rpy="0 0 0" xyz="0.00 0.052 0"/>
    <parent link="base_link"/>
    <child link="chassis_left"/>
  </joint>
  <joint name="base_right" type="fixed">
    <origin rpy="0 0 0" xyz="0.00 -0.052 0"/>
    <parent link="base_link"/>
    <child link="chassis_right"/>
  </joint>
  <joint name="base_front" type="fixed">
    <origin rpy="0 0 0" xyz="0 0 0"/>
    <parent link="base_link"/>
    <child link="front"/>
  </joint>
  <joint name="base_back" type="fixed">
    <origin rpy="0 0 0" xyz="0 0 0"/>
    <parent link="base_link"/>
    <child link="back"/>
  </joint>
  <joint name="base_front_bracket" type="fixed">
    <origin rpy="0 0 0" xyz="0 0 0"/>
    <parent link="base_link"/>
    <child link="front_bracket"/>
  </joint>
  <joint name="base_back_bracket" type="fixed">
    <origin rpy="0 0 0" xyz="0 0 0"/>
    <parent link="base_link"/>
    <child link="back_bracket"/>
  </joint>
  <transmission name="front_left_hip_joint_trans">
    <type>transmission_interface/SimpleTransmission</type>
    <joint name="motor_front_left_hip">
      <hardwareInterface>hardware_interface/EffortJointInterface</hardwareInterface>
    </joint>
    <actuator name="front_left_hip_joint_motor">
      <hardwareInterface>hardware_interface/EffortJointInterface</hardwareInterface>
      <mechanicalReduction>1</mechanicalReduction>
    </actuator>
  </transmission>
  <transmission name="front_left_upper_leg_joint_trans">
    <type>transmission_interface/SimpleTransmission</type>
    <joint name="motor_front_left_lower_leg">
      <hardwareInterface>hardware_interface/EffortJointInterface</hardwareInterface>
    </joint>
    <actuator name="front_left_upper_leg_joint_motor">
      <hardwareInterface>hardware_interface/EffortJointInterface</hardwareInterface>
      <mechanicalReduction>1</mechanicalReduction>
    </actuator>
  </transmission>
  <transmission name="front_left_lower_leg_joint_trans">
    <type>transmission_interface/SimpleTransmission</type>
    <joint name="motor_front_left_upper_leg">
      <hardwareInterface>hardware_interface/EffortJointInterface</hardwareInterface>
    </joint>
    <actuator name="front_left_lower_joint_motor">
      <hardwareInterface>hardware_interface/EffortJointInterface</hardwareInterface>
      <mechanicalReduction>1</mechanicalReduction>
    </actuator>
  </transmission>
  <transmission name="front_right_hip_joint_trans">
    <type>transmission_interface/SimpleTransmission</type>
    <joint name="motor_front_right_hip">
      <hardwareInterface>hardware_interface/EffortJointInterface</hardwareInterface>
    </joint>
    <actuator name="front_right_hip_joint_motor">
      <hardwareInterface>hardware_interface/EffortJointInterface</hardwareInterface>
      <mechanicalReduction>1</mechanicalReduction>
    </actuator>
  </transmission>
  <transmission name="front_right_upper_leg_joint_trans">
    <type>transmission_interface/SimpleTransmission</type>
    <joint name="motor_front_right_lower_leg">
      <hardwareInterface>hardware_interface/EffortJointInterface</hardwareInterface>
    </joint>
    <actuator name="front_right_upper_leg_joint_motor">
      <hardwareInterface>hardware_interface/EffortJointInterface</hardwareInterface>
      <mechanicalReduction>1</mechanicalReduction>
    </actuator>
  </transmission>
  <transmission name="front_right_lower_leg_joint_trans">
    <type>transmission_interface/SimpleTransmission</type>
    <joint name="motor_front_right_upper_leg">
      <hardwareInterface>hardware_interface/EffortJointInterface</hardwareInterface>
    </joint>
    <actuator name="front_right_lower_joint_motor">
      <hardwareInterface>hardware_interface/EffortJointInterface</hardwareInterface>
      <mechanicalReduction>1</mechanicalReduction>
    </actuator>
  </transmission>
  <transmission name="back_left_hip_joint_trans">
    <type>transmission_interface/SimpleTransmission</type>
    <joint name="motor_back_left_hip">
      <hardwareInterface>hardware_interface/EffortJointInterface</hardwareInterface>
    </joint>
    <actuator name="back_left_hip_joint_motor">
      <hardwareInterface>hardware_interface/EffortJointInterface</hardwareInterface>
      <mechanicalReduction>1</mechanicalReduction>
    </actuator>
  </transmission>
  <transmission name="back_left_upper_leg_joint_trans">
    <type>transmission_interface/SimpleTransmission</type>
    <joint name="motor_back_left_lower_leg">
      <hardwareInterface>hardware_interface/EffortJointInterface</hardwareInterface>
    </joint>
    <actuator name="back_left_upper_leg_joint_motor">
      <hardwareInterface>hardware_interface/EffortJointInterface</hardwareInterface>
      <mechanicalReduction>1</mechanicalReduction>
    </actuator>
  </transmission>
  <transmission name="back_left_lower_leg_joint_trans">
    <type>transmission_interface/SimpleTransmission</type>
    <joint name="motor_back_left_upper_leg">
      <hardwareInterface>hardware_interface/EffortJointInterface</hardwareInterface>
    </joint>
    <actuator name="back_left_lower_joint_motor">
      <hardwareInterface>hardware_interface/EffortJointInterface</hardwareInterface>
      <mechanicalReduction>1</mechanicalReduction>
    </actuator>
  </transmission>
  <transmission name="back_right_hip_joint_trans">
    <type>transmission_interface/SimpleTransmission</type>
    <joint name="motor_back_right_hip">
      <hardwareInterface>hardware_interface/EffortJointInterface</hardwareInterface>
    </joint>
    <actuator name="back_right_hip_joint_motor">
      <hardwareInterface>hardware_interface/EffortJointInterface</hardwareInterface>
      <mechanicalReduction>1</mechanicalReduction>
    </actuator>
  </transmission>
  <transmission name="back_right_upper_leg_joint_trans">
    <type>transmission_interface/SimpleTransmission</type>
    <joint name="motor_back_right_lower_leg">
      <hardwareInterface>hardware_interface/EffortJointInterface</hardwareInterface>
    </joint>
    <actuator name="back_right_upper_leg_joint_motor">
      <hardwareInterface>hardware_interface/EffortJointInterface</hardwareInterface>
      <mechanicalReduction>1</mechanicalReduction>
    </actuator>
  </transmission>
  <transmission name="back_right_lower_leg_joint_trans">
    <type>transmission_interface/SimpleTransmission</type>
    <joint name="motor_back_right_upper_leg">
      <hardwareInterface>hardware_interface/EffortJointInterface</hardwareInterface>
    </joint>
    <actuator name="back_right_lower_joint_motor">
      <hardwareInterface>hardware_interface/EffortJointInterface</hardwareInterface>
      <mechanicalReduction>1</mechanicalReduction>
    </actuator>
  </transmission>
  <gazebo>
    <plugin filename="libgazebo_ros_control.so" name="gazebo_ros_control">
      <legacyModeNS>true</legacyModeNS>
    </plugin>
  </gazebo>
</robot>
